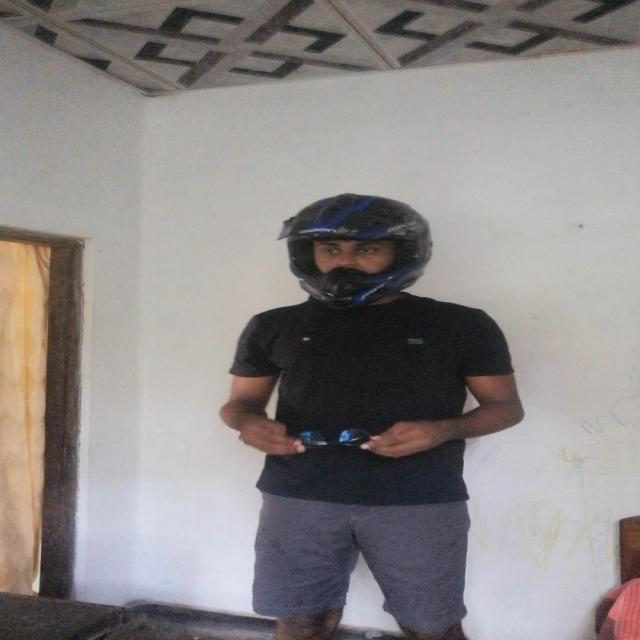Helmet_Wearer: (261, 180, 460, 312)
Person: (227, 186, 527, 626)
